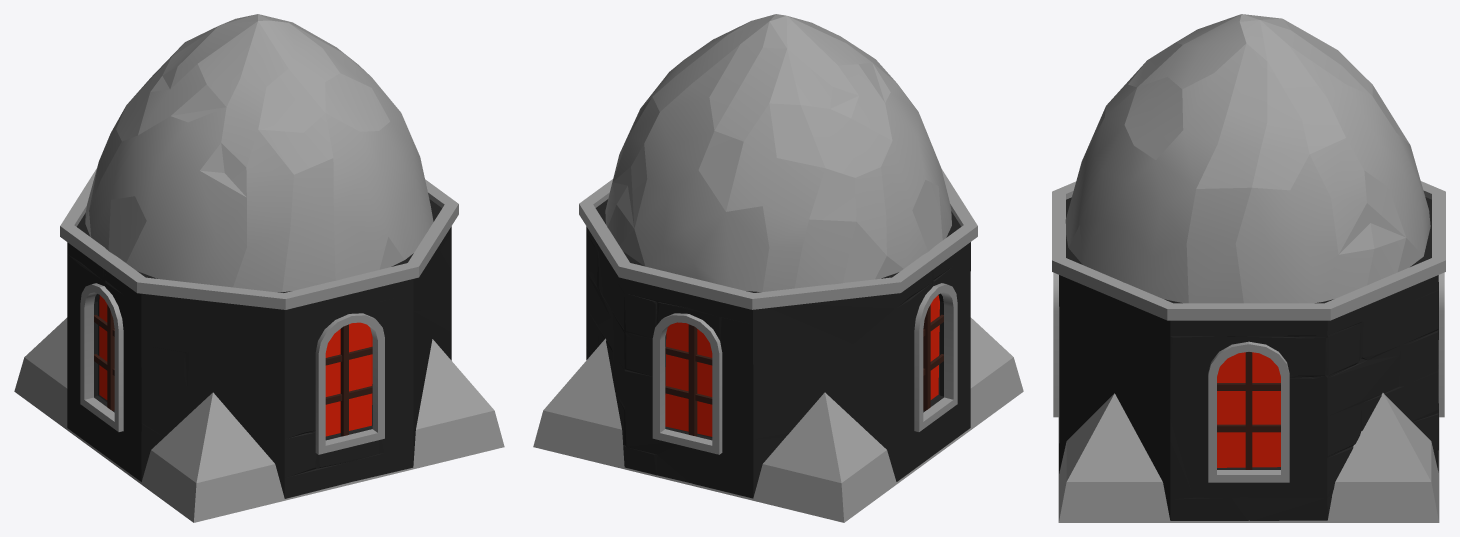
File: roof_building_6_b.FBX
3 renders of one model, left to right at view 1: azimuth 30°, elevation 25°; view 2: azimuth 150°, elevation 25°; view 3: azimuth 270°, elevation 25°, orthographic. The views are drawn at different scales.
Visible parts, largest first — view 1: roof_building_6_b; view 2: roof_building_6_b; view 3: roof_building_6_b.
Part boxes in pixels (left/top/right/bottom): roof_building_6_b: left=14, top=14, right=504, bottom=522; roof_building_6_b: left=533, top=14, right=1023, bottom=522; roof_building_6_b: left=1052, top=14, right=1445, bottom=522.
Size of the model in its own units: 466 by 556 by 466.
